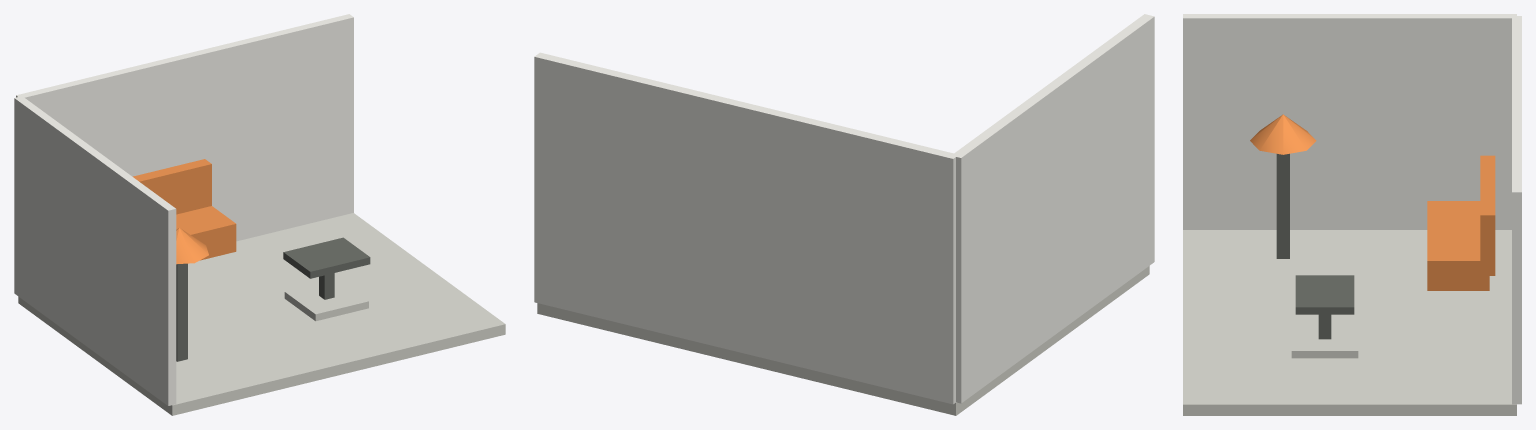
The model's file is nesomn-lowpoly-room.glb.
3 views of the same model, side by side, from view 1: azimuth 30°, elevation 25°; view 2: azimuth 150°, elevation 25°; view 3: azimuth 270°, elevation 25° (orthographic). The views are drawn at different scales.
Parts seen in each view (by area): view 1: Lowpoly Room 1, Lowpoly Room 0, Lowpoly Room 2, Lowpoly Room 4, Lowpoly Room 5, Lowpoly Room 3, Lowpoly Room 7, Lowpoly Room 8, Lowpoly Room 9; view 2: Lowpoly Room 1, Lowpoly Room 2, Lowpoly Room 0; view 3: Lowpoly Room 2, Lowpoly Room 0, Lowpoly Room 3, Lowpoly Room 1, Lowpoly Room 5, Lowpoly Room 7, Lowpoly Room 4, Lowpoly Room 9, Lowpoly Room 8, Lowpoly Room 6.
Part boxes in pixels (left/top/right/bottom): Lowpoly Room 1: left=16, top=14, right=353, bottom=241; Lowpoly Room 0: left=18, top=213, right=505, bottom=415; Lowpoly Room 2: left=14, top=97, right=176, bottom=405; Lowpoly Room 4: left=133, top=159, right=211, bottom=214; Lowpoly Room 5: left=283, top=237, right=370, bottom=278; Lowpoly Room 3: left=176, top=206, right=236, bottom=260; Lowpoly Room 7: left=284, top=279, right=368, bottom=321; Lowpoly Room 8: left=176, top=263, right=187, bottom=361; Lowpoly Room 9: left=176, top=227, right=208, bottom=264; Lowpoly Room 1: left=534, top=52, right=958, bottom=404; Lowpoly Room 2: left=954, top=14, right=1154, bottom=403; Lowpoly Room 0: left=537, top=266, right=1149, bottom=415; Lowpoly Room 2: left=1183, top=14, right=1516, bottom=229; Lowpoly Room 0: left=1183, top=230, right=1516, bottom=415; Lowpoly Room 3: left=1427, top=201, right=1489, bottom=290; Lowpoly Room 1: left=1512, top=16, right=1521, bottom=404; Lowpoly Room 5: left=1295, top=275, right=1354, bottom=314; Lowpoly Room 7: left=1291, top=322, right=1358, bottom=358; Lowpoly Room 4: left=1480, top=155, right=1495, bottom=275; Lowpoly Room 9: left=1250, top=114, right=1316, bottom=154; Lowpoly Room 8: left=1276, top=153, right=1289, bottom=258; Lowpoly Room 6: left=1318, top=314, right=1331, bottom=339.
Size of the model in its own units: 5.06 by 2.95 by 4.06.
